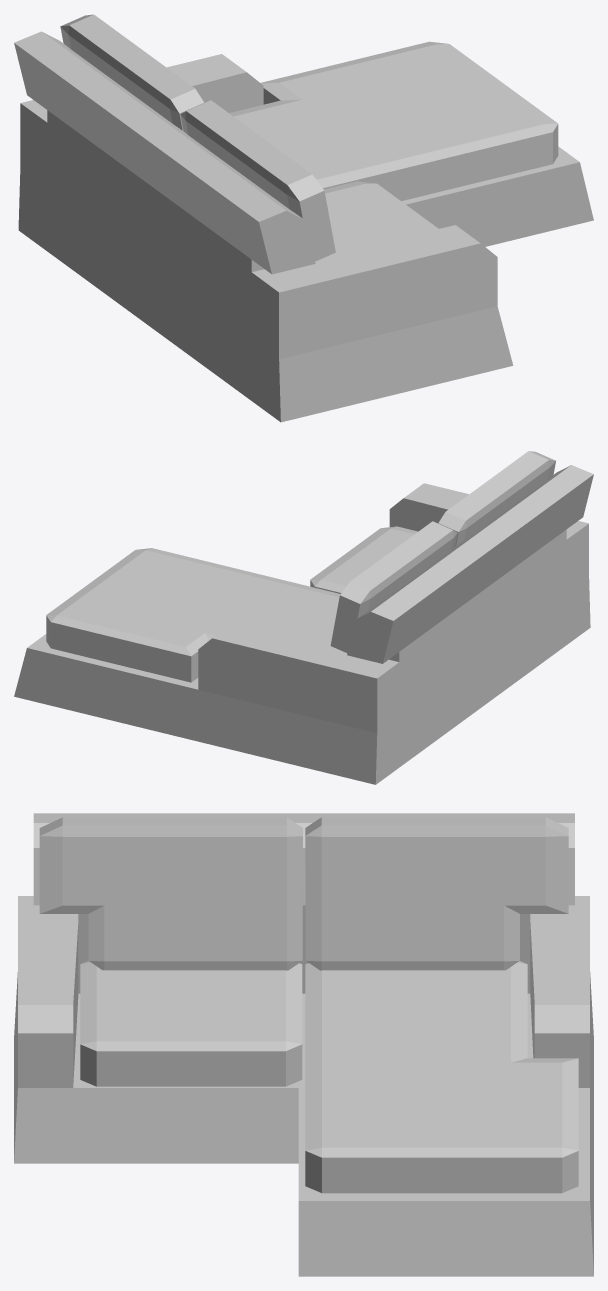
The model's file is SofaLong.glb.
The picture shows the model from 3 angles, top to bottom: view 1: azimuth 30°, elevation 25°; view 2: azimuth 150°, elevation 25°; view 3: azimuth 270°, elevation 25°; orthographic projection. The views are drawn at different scales.
Parts seen in each view (by area): view 1: SofaLong; view 2: SofaLong; view 3: SofaLong.
Boxes of the visible parts, x1,y1,x2,y2 form: SofaLong: (14,14,593,422); SofaLong: (14,451,593,784); SofaLong: (14,813,593,1276).
Bounding box in the file's own units: 1.37 × 0.6276 × 1.36.
Materials: 1 (1 with a texture image).
